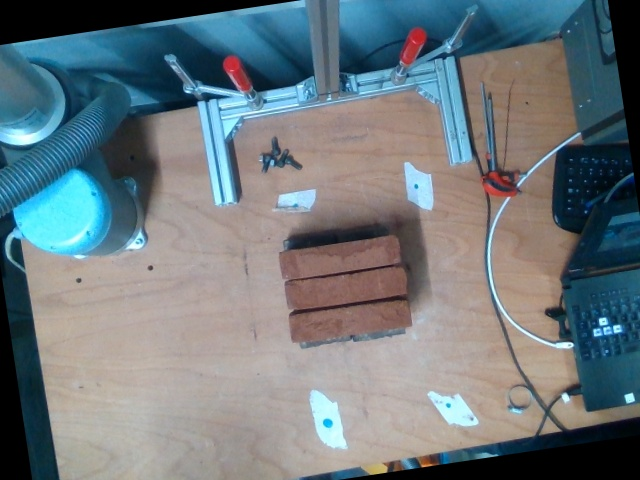brick-side: (288, 298, 410, 344), (280, 236, 401, 282), (286, 265, 407, 311)
